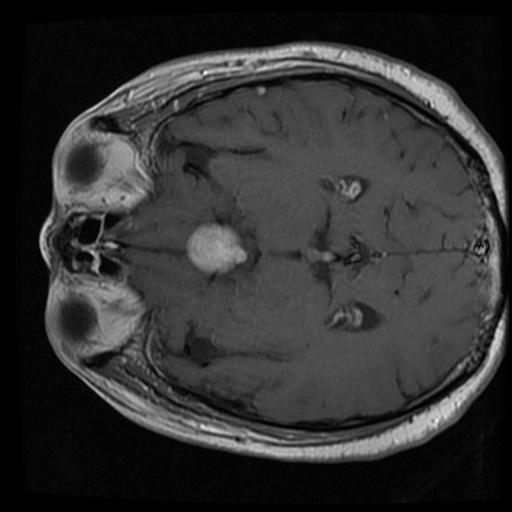pituitary tumour: (188, 225, 242, 273)
